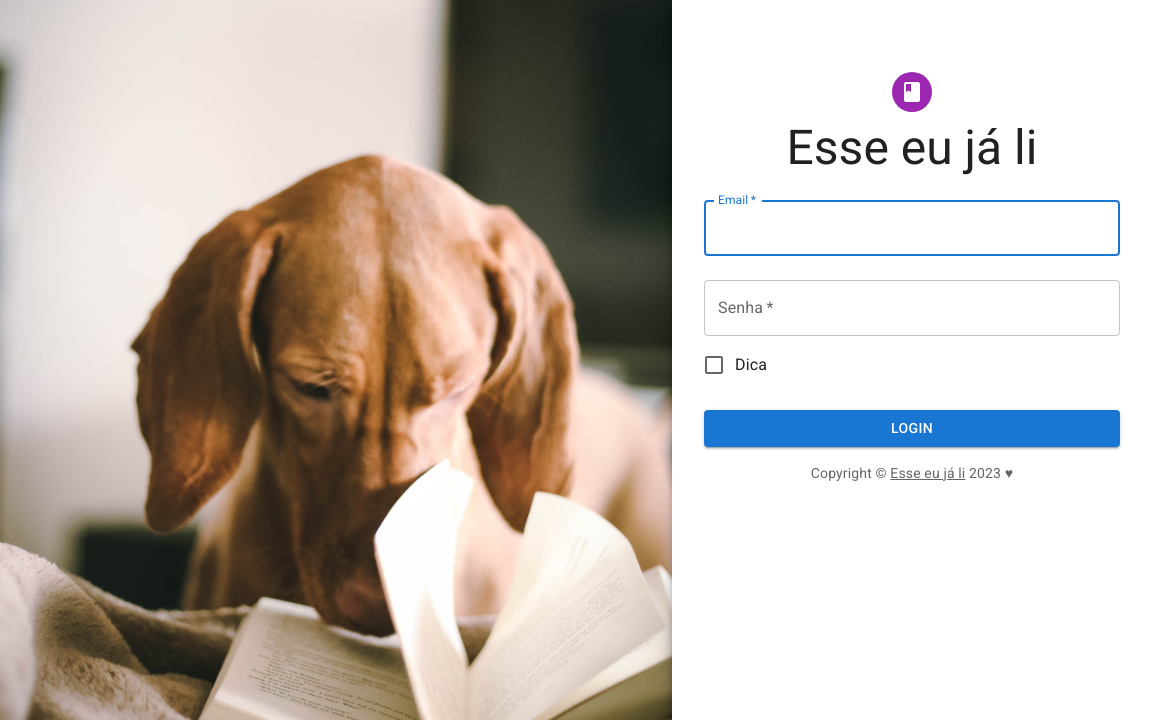
Test: SignIn › should show a tip when click o checkbox
The width and height of the screenshot is (1152, 720).
What coordinates should you click on to do the following:
click the checkbox labelled "Dica"
I would click on:
 (735, 365)
Its box is [702,353,767,377].
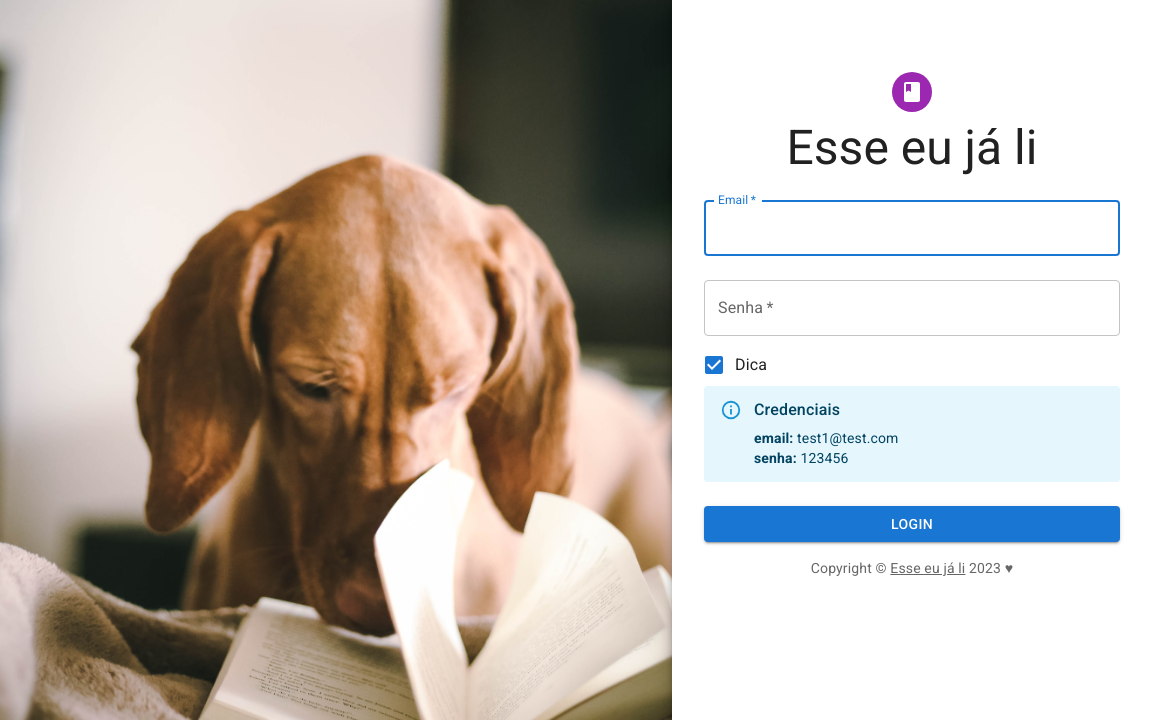
Now the text "email: test1@test.com" is shown, box [754,428,898,448]
Now the text "senha: 123456" is shown, box [754,450,848,466]
